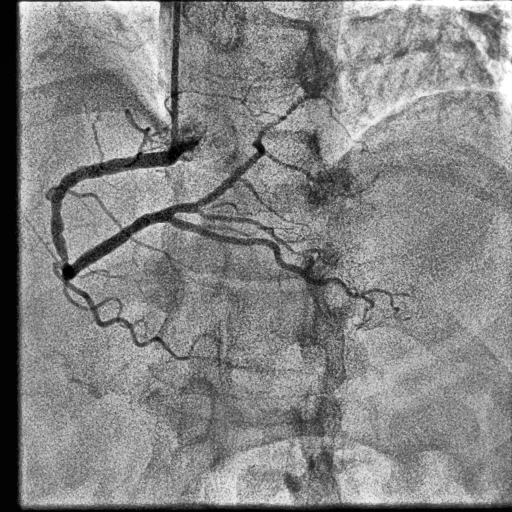pborca: (166, 144, 378, 216)
pda: (161, 216, 399, 319)
rca: (51, 146, 181, 281)
